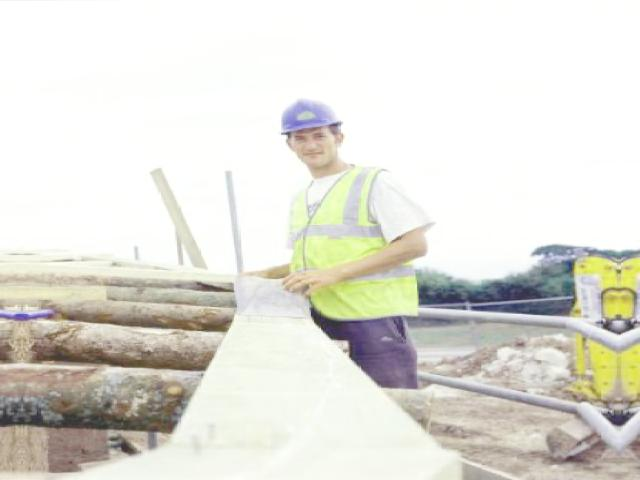Helmet: (269, 93, 349, 144)
